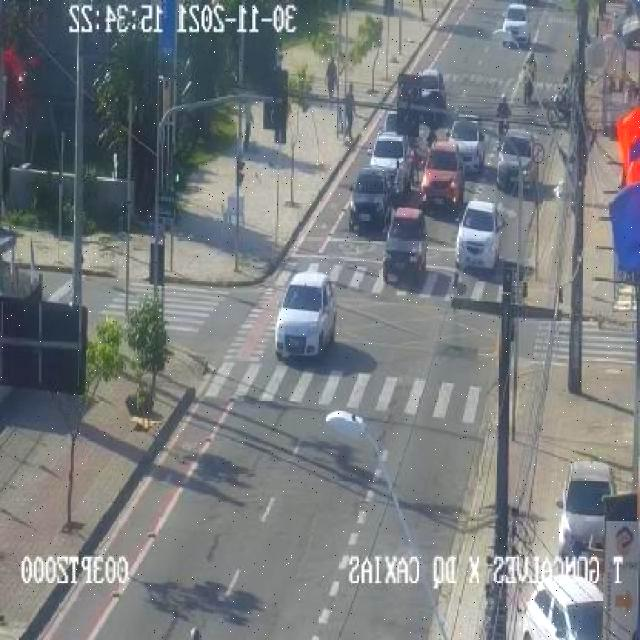Car: (273, 262, 343, 366), (520, 575, 604, 640), (557, 462, 615, 555), (455, 199, 505, 271), (382, 208, 430, 283), (419, 141, 466, 213), (349, 167, 398, 232), (367, 130, 412, 192), (496, 130, 540, 192), (446, 118, 486, 176), (501, 2, 530, 48)
Cycle: (494, 92, 509, 136)
